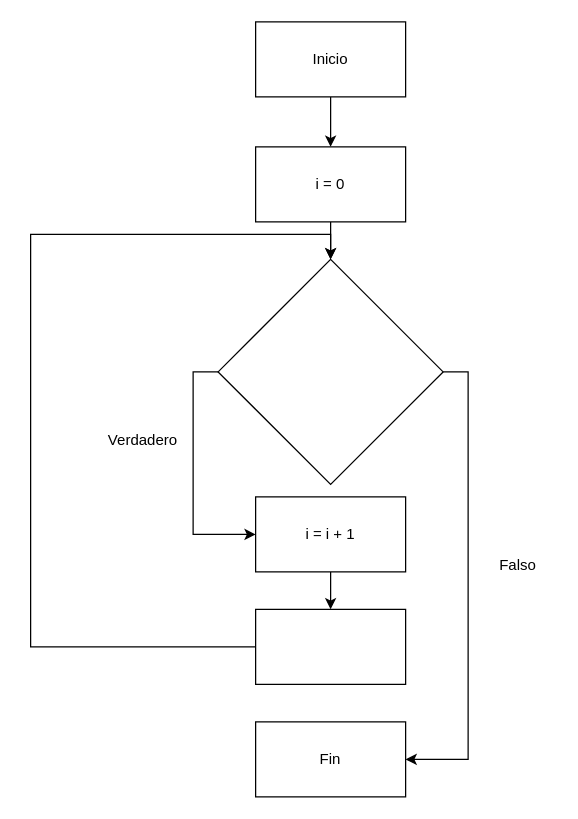
Some shapes in this 578 by 819 pixel diagram are drawn without their labels. The centre of each missing label's shape, as x and y in pixels:
"imprimir mensaje" goes at pixel 330 646.
"Mientras i < 100" goes at pixel 330 371.
